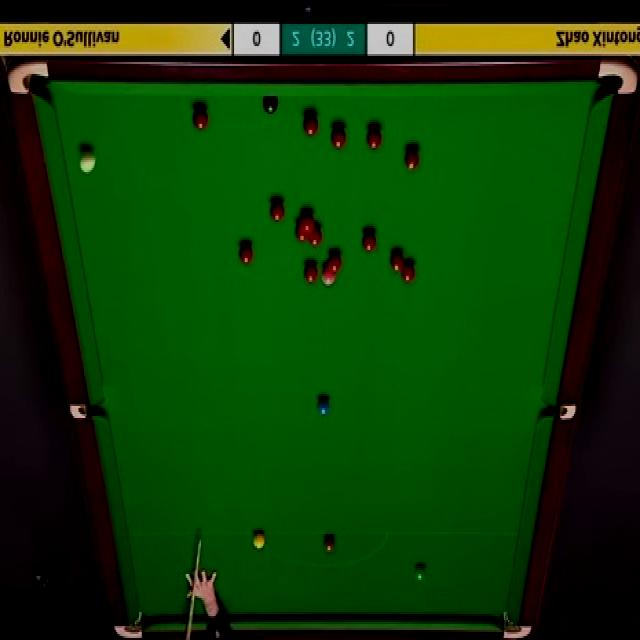black-ball: (264, 96, 282, 115)
blue-ball: (316, 398, 331, 415)
brown-ball: (323, 530, 336, 552)
green-ball: (415, 567, 425, 582)
pink-ball: (322, 266, 336, 286)
red-ball: (307, 221, 324, 247), (302, 112, 320, 136), (331, 124, 346, 152), (191, 107, 208, 131), (404, 148, 421, 171), (272, 199, 288, 223), (400, 262, 416, 286), (238, 242, 254, 263), (300, 210, 314, 232), (368, 127, 382, 149), (295, 222, 309, 241), (327, 254, 341, 273), (362, 232, 376, 250), (303, 264, 316, 283)
white-ball: (79, 146, 97, 170)
yellow-ball: (253, 530, 265, 550)
